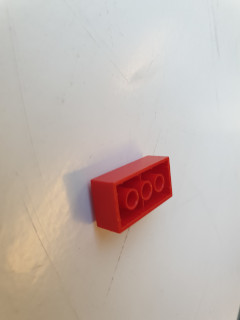2x4 red: (89, 155, 174, 235)
